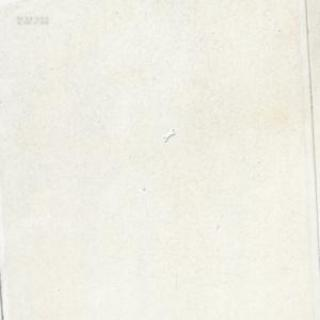Wrenchtrack_idkeyframe: (162, 128, 174, 141)
